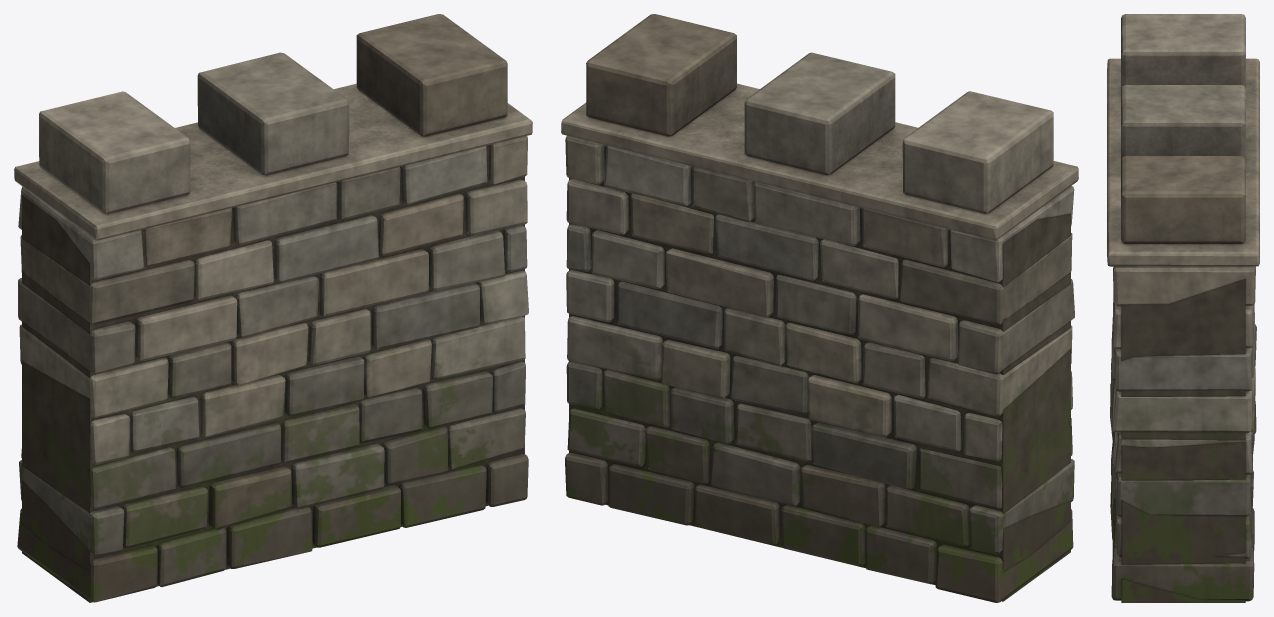
The model's file is cenario_muro_cal.glb.
The picture shows the model from 3 angles, left to right: view 1: azimuth 30°, elevation 25°; view 2: azimuth 150°, elevation 25°; view 3: azimuth 270°, elevation 25°; orthographic projection. The views are drawn at different scales.
Parts seen in each view (by area): view 1: cenario_muro_cal_tronco; view 2: cenario_muro_cal_tronco; view 3: cenario_muro_cal_tronco.
Part boxes in pixels (x1=…): cenario_muro_cal_tronco: x1=14, y1=14, x2=532, y2=602; cenario_muro_cal_tronco: x1=561, y1=14, x2=1078, y2=602; cenario_muro_cal_tronco: x1=1107, y1=14, x2=1259, y2=602.
Bounding box in the file's own units: 4 × 3.84 × 1.32.
1 material, 1 textured.
